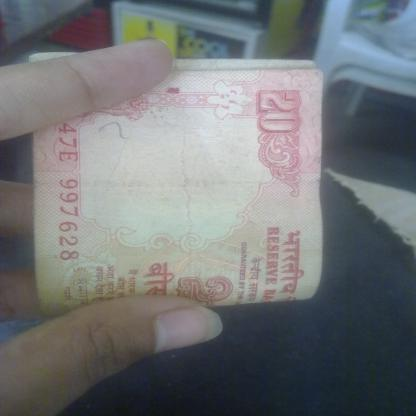Old20Front: (34, 61, 310, 305)
